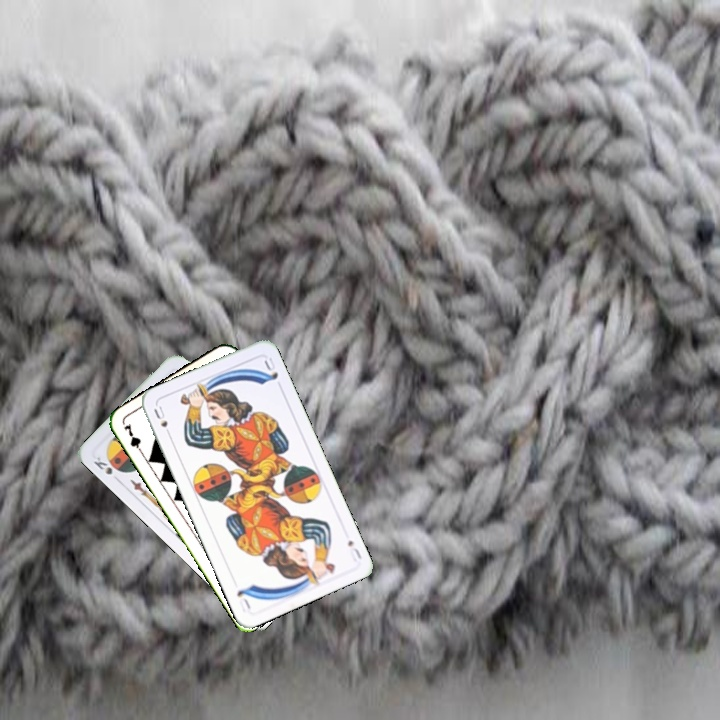G7: (120, 420, 146, 458)
SK: (89, 452, 115, 477)
SU: (150, 402, 174, 440), (343, 536, 364, 564)
